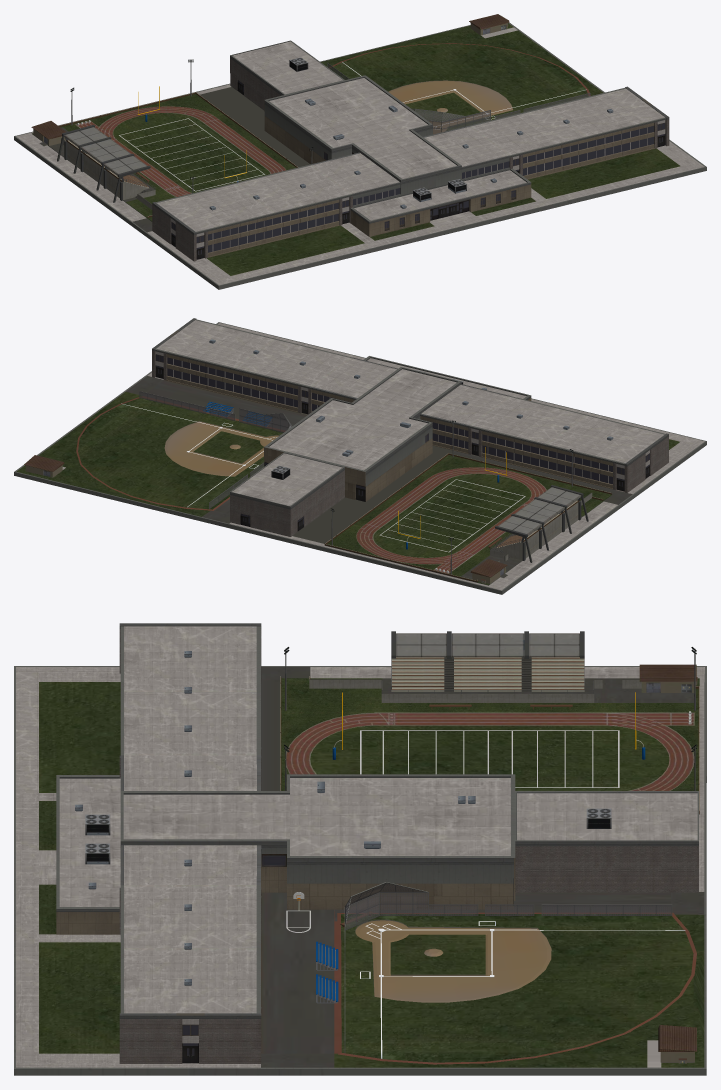
Rendered from building_school.glb.
The picture shows the model from 3 angles, top to bottom: view 1: azimuth 30°, elevation 25°; view 2: azimuth 150°, elevation 25°; view 3: azimuth 270°, elevation 25°; orthographic projection. The views are drawn at different scales.
Parts seen in each view (by area): view 1: Schoo_0, Track_1, Baseball_2; view 2: Schoo_0, Track_1, Baseball_2; view 3: Schoo_0, Baseball_2, Track_1.
Boxes of the visible parts, bbox=[...] form: Schoo_0: bbox=[14, 22, 706, 289]; Track_1: bbox=[31, 59, 313, 221]; Baseball_2: bbox=[327, 14, 590, 134]; Schoo_0: bbox=[14, 318, 706, 594]; Track_1: bbox=[324, 420, 612, 585]; Baseball_2: bbox=[24, 391, 292, 510]; Schoo_0: bbox=[14, 623, 706, 1075]; Baseball_2: bbox=[316, 882, 696, 1064]; Track_1: bbox=[280, 631, 699, 814].
Bounding box in the file's own units: 156 × 12.46 × 113.
Materials: 1 (1 with a texture image).
